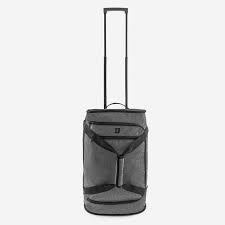suitcase: (80, 8, 150, 215)
